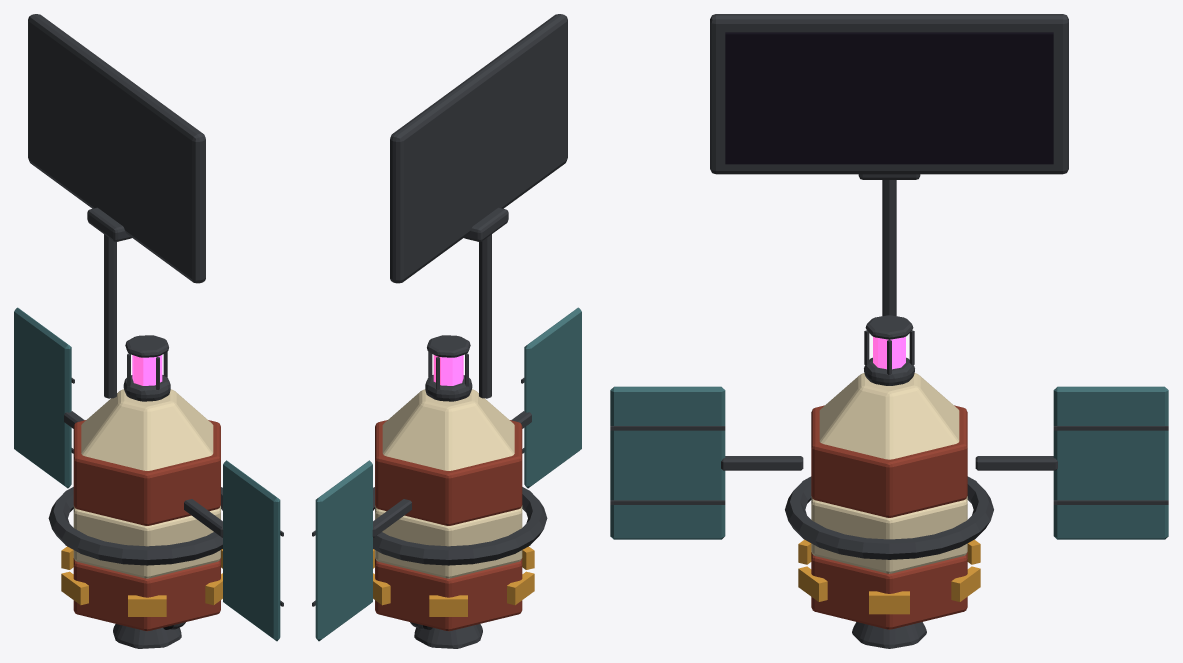
File: tug-buoy.glb
The picture shows the model from 3 angles, left to right: view 1: azimuth 30°, elevation 25°; view 2: azimuth 150°, elevation 25°; view 3: azimuth 270°, elevation 25°; orthographic projection. The views are drawn at different scales.
Visible parts, largest first — view 1: body body, beacon cap, beacon base, beacon; view 2: body body, beacon cap, beacon base, beacon; view 3: body body, beacon cap, beacon base, beacon.
Part boxes in pixels (x1=…): body body: x1=14, y1=14, x2=283, y2=648; beacon cap: x1=125, y1=335, x2=168, y2=357; beacon base: x1=123, y1=375, x2=170, y2=401; beacon: x1=132, y1=355, x2=162, y2=385; body body: x1=312, y1=14, x2=581, y2=648; beacon cap: x1=427, y1=335, x2=470, y2=357; beacon base: x1=425, y1=375, x2=472, y2=401; beacon: x1=433, y1=355, x2=463, y2=385; body body: x1=610, y1=14, x2=1168, y2=648; beacon cap: x1=865, y1=315, x2=913, y2=339; beacon base: x1=864, y1=357, x2=914, y2=385; beacon: x1=873, y1=336, x2=905, y2=369.
Bounding box in the file's own units: 1.02 × 3.24 × 2.72.
